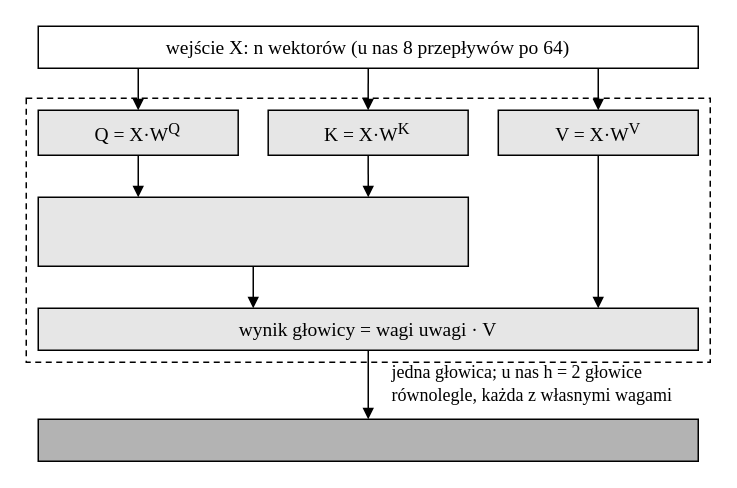
Image size: 737x488. Some labels were removed from this diagram. Here are the shapes that lost their labels. From the top down, the box of each, then its label:
(37, 196, 468, 266): wagi uwagi: softmax(Q·K T / √d k ) (ile każdy element „patrzy” na pozostałe)
(37, 418, 698, 461): połączenie wyników h głowic i rzut liniowy W O
